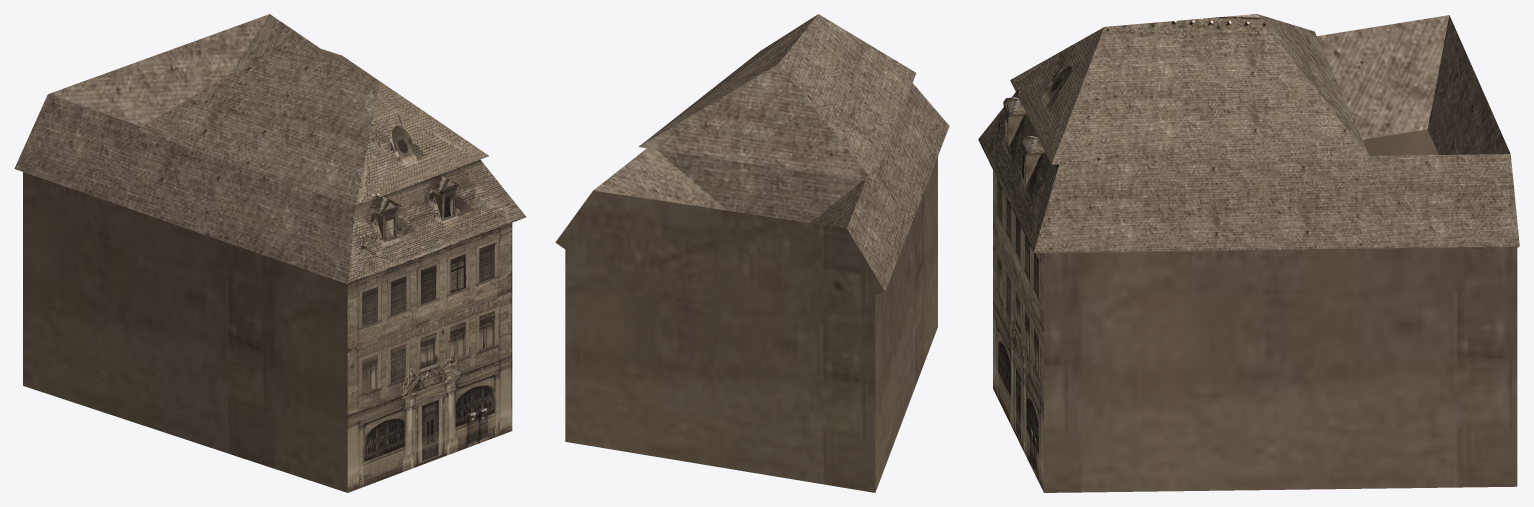
Rendered from alteRathaus.glb.
The picture shows the model from 3 angles, left to right: view 1: azimuth 30°, elevation 25°; view 2: azimuth 150°, elevation 25°; view 3: azimuth 270°, elevation 25°; orthographic projection. The views are drawn at different scales.
Parts seen in each view (by area): view 1: Batched_Building__1_BD.1; view 2: Batched_Building__1_BD.1; view 3: Batched_Building__1_BD.1.
Boxes of the visible parts, x1,y1,x2,y2 form: Batched_Building__1_BD.1: (14, 14, 526, 492); Batched_Building__1_BD.1: (555, 14, 949, 492); Batched_Building__1_BD.1: (978, 14, 1519, 492).
Size of the model in its own units: 19.9 by 20.49 by 24.35.
6 materials, 5 textured.
